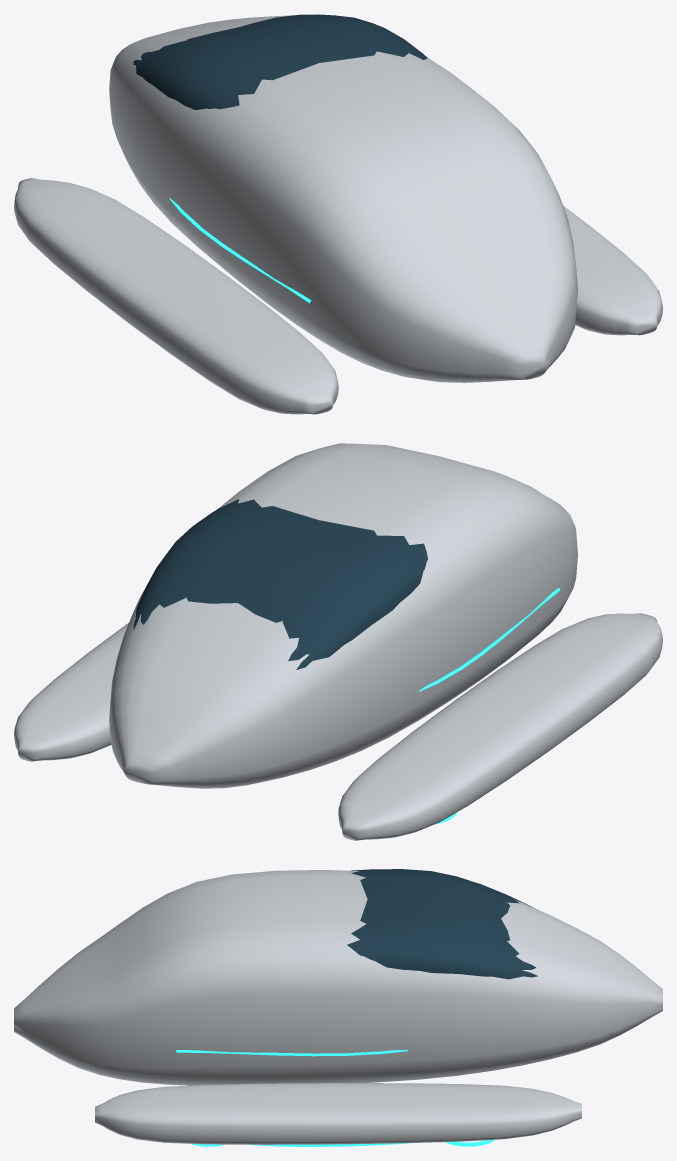
File: rotorless_shuttle.gltf
The picture shows the model from 3 angles, top to bottom: view 1: azimuth 30°, elevation 25°; view 2: azimuth 150°, elevation 25°; view 3: azimuth 270°, elevation 25°; orthographic projection. The views are drawn at different scales.
Visible parts, largest first — view 1: rotorless_shuttle; view 2: rotorless_shuttle; view 3: rotorless_shuttle.
Boxes of the visible parts, x1,y1,x2,y2 form: rotorless_shuttle: (14, 14, 662, 414); rotorless_shuttle: (14, 443, 662, 840); rotorless_shuttle: (14, 869, 662, 1146).
Size of the model in its own units: 5.01 by 2.32 by 8.
